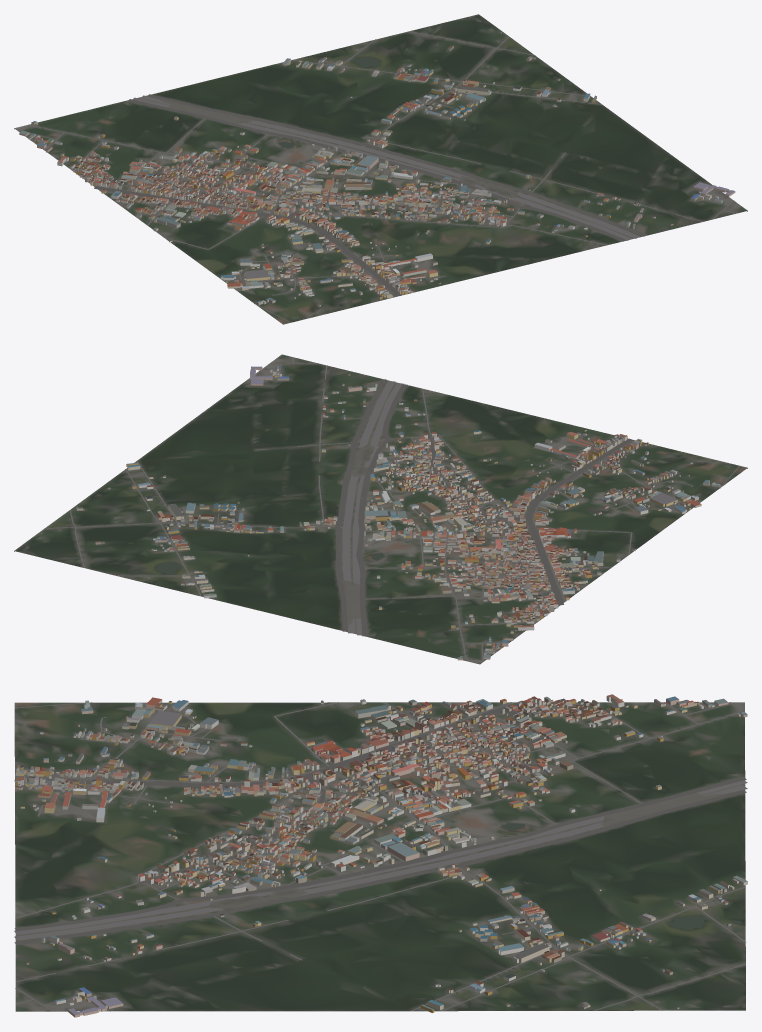
3 renders of one model, top to bottom at view 1: azimuth 30°, elevation 25°; view 2: azimuth 150°, elevation 25°; view 3: azimuth 270°, elevation 25°, orthographic. The views are drawn at different scales.
Parts seen in each view (by area): view 1: ground, buildings, roads; view 2: ground, buildings, roads; view 3: ground, buildings, roads, water.
Part boxes in pixels (x1,y1,x2,y2): ground: [14, 14, 747, 324]; buildings: [19, 32, 735, 306]; roads: [19, 31, 737, 322]; ground: [14, 354, 747, 664]; buildings: [41, 366, 720, 660]; roads: [44, 357, 739, 660]; ground: [14, 702, 745, 1011]; buildings: [15, 694, 747, 1017]; roads: [14, 700, 747, 1011]; water: [160, 823, 741, 1006].
Size of the model in its own units: 1448 by 21.97 by 1409.
